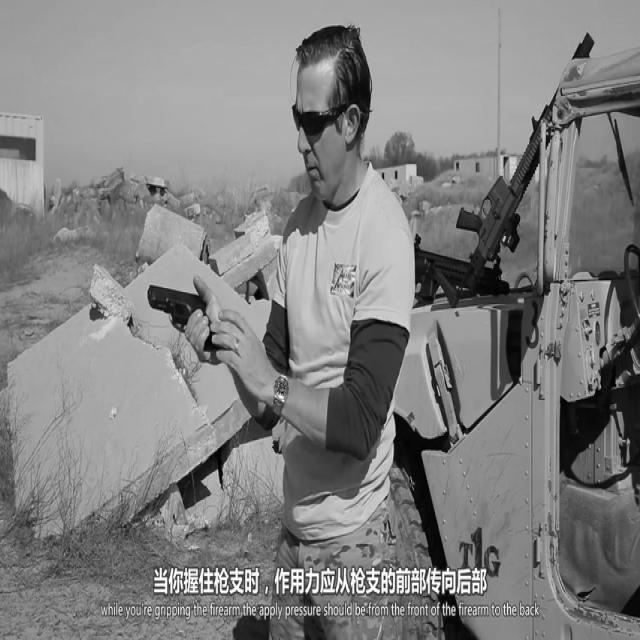Hand-Gun: (144, 264, 220, 384)
